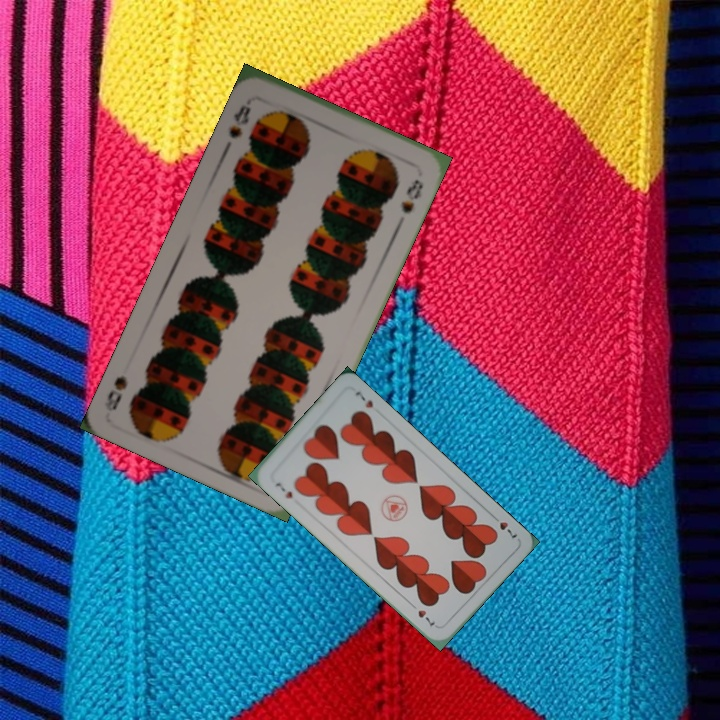H7: (487, 510, 520, 542), (272, 478, 295, 501)
S8: (225, 101, 254, 141)
